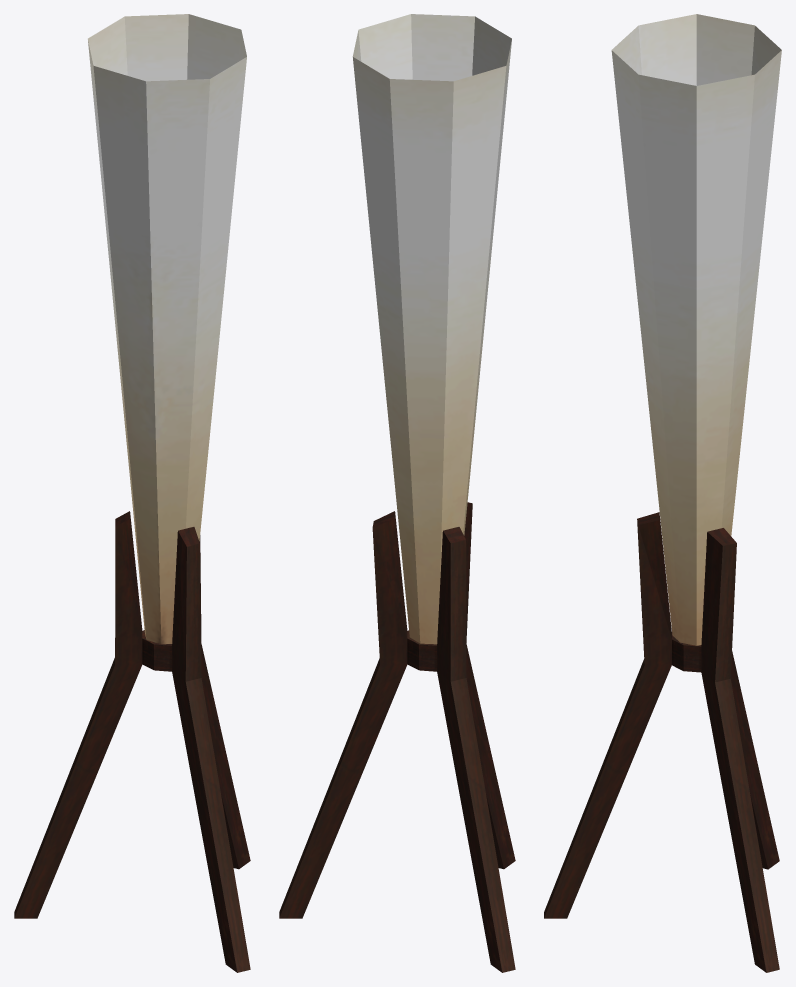
The model's file is Lamp2.fbx.
The picture shows the model from 3 angles, left to right: view 1: azimuth 30°, elevation 25°; view 2: azimuth 150°, elevation 25°; view 3: azimuth 270°, elevation 25°; orthographic projection.
Visible parts, largest first — view 1: Empty_Mesh; view 2: Empty_Mesh; view 3: Empty_Mesh.
Boxes of the visible parts, bbox=[...] form: Empty_Mesh: bbox=[14, 14, 250, 972]; Empty_Mesh: bbox=[279, 14, 515, 972]; Empty_Mesh: bbox=[544, 14, 781, 972].
Bounding box in the file's own units: 45.04 × 158 × 39.36.
